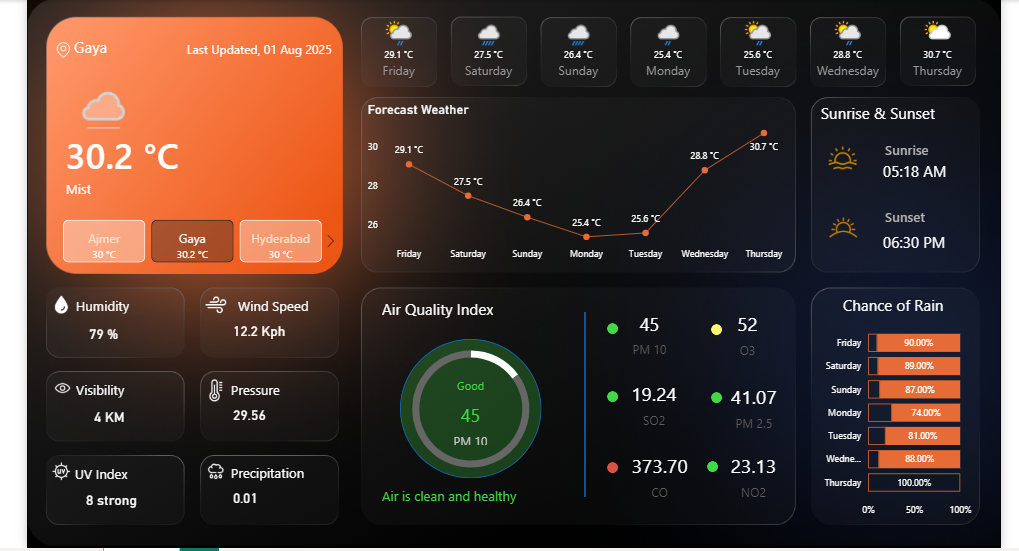

Layout of this report page (visuals, bound fields, positions):
{"tool":"powerbi","page":{"name":"Page 1","canvas":[1280,720],"ordinal":0},"visuals":[{"type":"shape","box":[490,445.9,185.8,183.1],"z":0},{"type":"shape","box":[51,165.7,164.2,73.6],"z":1000},{"type":"shape","box":[51,230.8,164.2,32.6],"z":2000},{"type":"shape","box":[61.9,38.5,103.2,46.8],"z":3000},{"type":"shape","box":[186.9,45.3,213.8,39.6],"z":4000},{"type":"image","box":[32.6,48.1,29.7,34],"z":5000},{"type":"cardVisual","fields":{"Data":["Min(current.current.condition.icon)"]},"box":[31.6,83.3,126.4,91.9],"z":6000},{"type":"image","box":[27.5,380,35,40],"z":7000},{"type":"image","box":[228.8,381.2,38.8,38.8],"z":8000},{"type":"image","box":[30,491.2,32.5,37.5],"z":9000},{"type":"image","box":[228.8,491.2,38.8,42.5],"z":10000},{"type":"image","box":[27.5,601.2,35,35],"z":11000},{"type":"image","box":[228.8,601.2,38.8,35],"z":12000},{"type":"shape","box":[64.6,385,73.3,30.2],"z":13000},{"type":"shape","box":[277.3,385,106.3,30.2],"z":14000},{"type":"shape","box":[65,495,73.8,30],"z":15000},{"type":"shape","box":[267.5,495,73.8,30],"z":16000},{"type":"shape","box":[62.5,606.2,73.8,30],"z":17000},{"type":"shape","box":[267.5,603.8,106.2,30],"z":18000},{"type":"cardVisual","fields":{"Data":["_Measures.Humidity_per"]},"box":[64.6,403.7,93.4,61.8],"z":19000},{"type":"cardVisual","fields":{"Data":["Sum(current.current.precip_in)"]},"box":[253.8,618.8,88.8,61.2],"z":20000},{"type":"cardVisual","fields":{"Data":["_Measures.Visibility_km"]},"box":[71.2,512.5,93.8,61.2],"z":21000},{"type":"cardVisual","fields":{"Data":["Sum(current.current.pressure_in)"]},"box":[253.8,510,88.8,61.2],"z":22000},{"type":"cardVisual","fields":{"Data":["_Measures.Wind Speed"]},"box":[253.8,400,111.2,61.2],"z":23000},{"type":"cardVisual","fields":{"Data":["_Measures.UV_ str"]},"box":[60,621.2,116.2,61.2],"z":24000},{"type":"advancedSlicerVisual","fields":{"Values":["Forecast_Day.Date_Name"]},"box":[428,15.1,828.6,106],"z":25000},{"type":"lineChart","title":"Forecast Weather","fields":{"Y":["Sum(Forecast_Day.forecast.forecastday.day.avgtemp_c)"],"Category":["Forecast_Day.Date_Name"]},"box":[443.2,133.5,561.5,217.5],"z":26000},{"type":"shape","box":[1043.3,133.5,189.9,26.2],"z":27000},{"type":"shape","box":[1124.5,206.5,134.9,35.8],"z":28000},{"type":"shape","box":[1124.5,295.9,128,42.7],"z":29000},{"type":"shape","box":[1127.2,174.8,128,42.7],"z":30000},{"type":"shape","box":[1127.2,268.4,128,31.7],"z":31000},{"type":"image","box":[1043.3,184.4,56.4,46.8],"z":32000},{"type":"image","box":[1033.6,269.8,77.1,59.2],"z":33000},{"type":"hundredPercentStackedBarChart","title":"Chance of Rain","fields":{"Y":["_Measures.Left_value_Rain","Sum(Forecast_Day.forecast.forecastday.day.daily_chance_of_rain)"],"Category":["Forecast_Day.Date_Name"]},"box":[1029.5,386.8,216.1,301.4],"z":34000},{"type":"shape","box":[466.6,390.9,189.9,26.2],"z":35000},{"type":"cardVisual","title":"PM2 10","fields":{"Data":["Sum(current.current.air_quality.pm10)"]},"box":[769.8,391.5,96.8,80.6],"z":36000},{"type":"cardVisual","title":"PM2 10","fields":{"Data":["Sum(current.current.air_quality.so2)"]},"box":[769.8,483.8,108.5,82.1],"z":37000},{"type":"cardVisual","title":"PM2 10","fields":{"Data":["Sum(current.current.air_quality.pm2_5)"]},"box":[905.9,487.9,97.6,81.3],"z":38000},{"type":"cardVisual","title":"PM2 10","fields":{"Data":["Sum(current.current.air_quality.co)"]},"box":[769.8,577.7,123.2,80.6],"z":39000},{"type":"cardVisual","title":"PM2 10","fields":{"Data":["Sum(current.current.air_quality.no2)"]},"box":[906.1,577.7,96.8,80.6],"z":40000},{"type":"cardVisual","title":"PM2 10","fields":{"Data":["Sum(current.current.air_quality.o3)"]},"box":[898.8,391.5,96.8,82.1],"z":41000},{"type":"shape","box":[762.4,607,14.7,14.7],"z":42000},{"type":"shape","box":[762.4,423.7,14.7,14.7],"z":43000},{"type":"shape","box":[762.4,513.2,14.7,14.7],"z":44000},{"type":"shape","box":[898.8,425.2,14.7,14.7],"z":45000},{"type":"shape","box":[898.8,514.6,14.7,14.7],"z":46000},{"type":"shape","box":[892.9,605.5,14.7,14.7],"z":47000},{"type":"shape","box":[640.7,409.4,183.9,242.8],"z":48000},{"type":"donutChart","title":"PM2 10","fields":{"Y":["Sum(current.current.air_quality.pm10)","_Measures.Left_value_PM10"]},"box":[459.7,436.3,246.4,202.3],"z":49000},{"type":"cardVisual","fields":{"Data":["Sum(current.current.air_quality.pm10)"]},"box":[535.4,496.9,96.3,93.6],"z":50000},{"type":"shape","box":[466.9,622,262.9,58.9],"z":51000},{"type":"advancedSlicerVisual","fields":{"Values":["Locatiions.location.name"]},"box":[23,284.4,392.2,66.1],"z":52000}]}

Visuals, with their boxes on the page's 1280x720 design canvas (x1, y1, x2, y2). These are canvas units, not pixel positions in the 1019x551 screenshot, which may show the page scaled, cropped or inside an application window:
shape: BBox(490, 446, 676, 629)
shape: BBox(51, 166, 215, 239)
shape: BBox(51, 231, 215, 263)
shape: BBox(62, 38, 165, 85)
shape: BBox(187, 45, 401, 85)
image: BBox(33, 48, 62, 82)
cardVisual - Min(current.current.condition.icon): BBox(32, 83, 158, 175)
image: BBox(28, 380, 62, 420)
image: BBox(229, 381, 268, 420)
image: BBox(30, 491, 62, 529)
image: BBox(229, 491, 268, 534)
image: BBox(28, 601, 62, 636)
image: BBox(229, 601, 268, 636)
shape: BBox(65, 385, 138, 415)
shape: BBox(277, 385, 384, 415)
shape: BBox(65, 495, 139, 525)
shape: BBox(268, 495, 341, 525)
shape: BBox(62, 606, 136, 636)
shape: BBox(268, 604, 374, 634)
cardVisual - _Measures.Humidity_per: BBox(65, 404, 158, 466)
cardVisual - Sum(current.current.precip_in): BBox(254, 619, 343, 680)
cardVisual - _Measures.Visibility_km: BBox(71, 512, 165, 574)
cardVisual - Sum(current.current.pressure_in): BBox(254, 510, 343, 571)
cardVisual - _Measures.Wind Speed: BBox(254, 400, 365, 461)
cardVisual - _Measures.UV_ str: BBox(60, 621, 176, 682)
advancedSlicerVisual - Forecast_Day.Date_Name: BBox(428, 15, 1257, 121)
"Forecast Weather" lineChart: BBox(443, 134, 1005, 351)
shape: BBox(1043, 134, 1233, 160)
shape: BBox(1124, 206, 1259, 242)
shape: BBox(1124, 296, 1252, 339)
shape: BBox(1127, 175, 1255, 218)
shape: BBox(1127, 268, 1255, 300)
image: BBox(1043, 184, 1100, 231)
image: BBox(1034, 270, 1111, 329)
"Chance of Rain" hundredPercentStackedBarChart: BBox(1030, 387, 1246, 688)
shape: BBox(467, 391, 656, 417)
"PM2 10" cardVisual: BBox(770, 392, 867, 472)
"PM2 10" cardVisual: BBox(770, 484, 878, 566)
"PM2 10" cardVisual: BBox(906, 488, 1004, 569)
"PM2 10" cardVisual: BBox(770, 578, 893, 658)
"PM2 10" cardVisual: BBox(906, 578, 1003, 658)
"PM2 10" cardVisual: BBox(899, 392, 996, 474)
shape: BBox(762, 607, 777, 622)
shape: BBox(762, 424, 777, 438)
shape: BBox(762, 513, 777, 528)
shape: BBox(899, 425, 914, 440)
shape: BBox(899, 515, 914, 529)
shape: BBox(893, 606, 908, 620)
shape: BBox(641, 409, 825, 652)
"PM2 10" donutChart: BBox(460, 436, 706, 639)
cardVisual - Sum(current.current.air_quality.pm10): BBox(535, 497, 632, 590)
shape: BBox(467, 622, 730, 681)
advancedSlicerVisual - Locatiions.location.name: BBox(23, 284, 415, 350)
